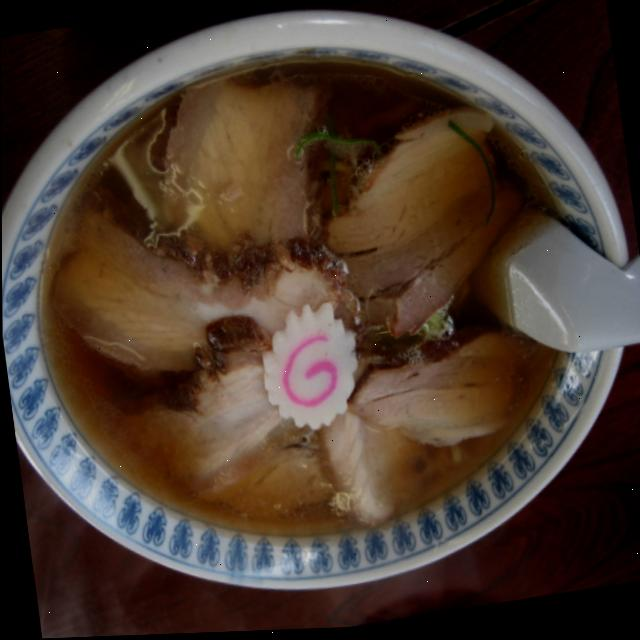面条主食: (5, 14, 605, 598)
